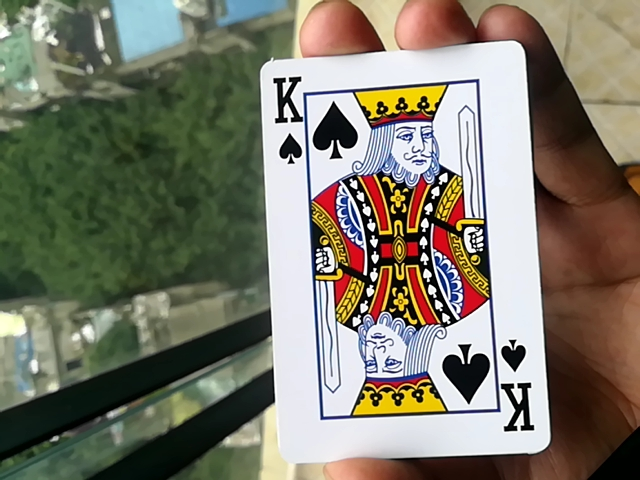ht k: (251, 45, 544, 461)
